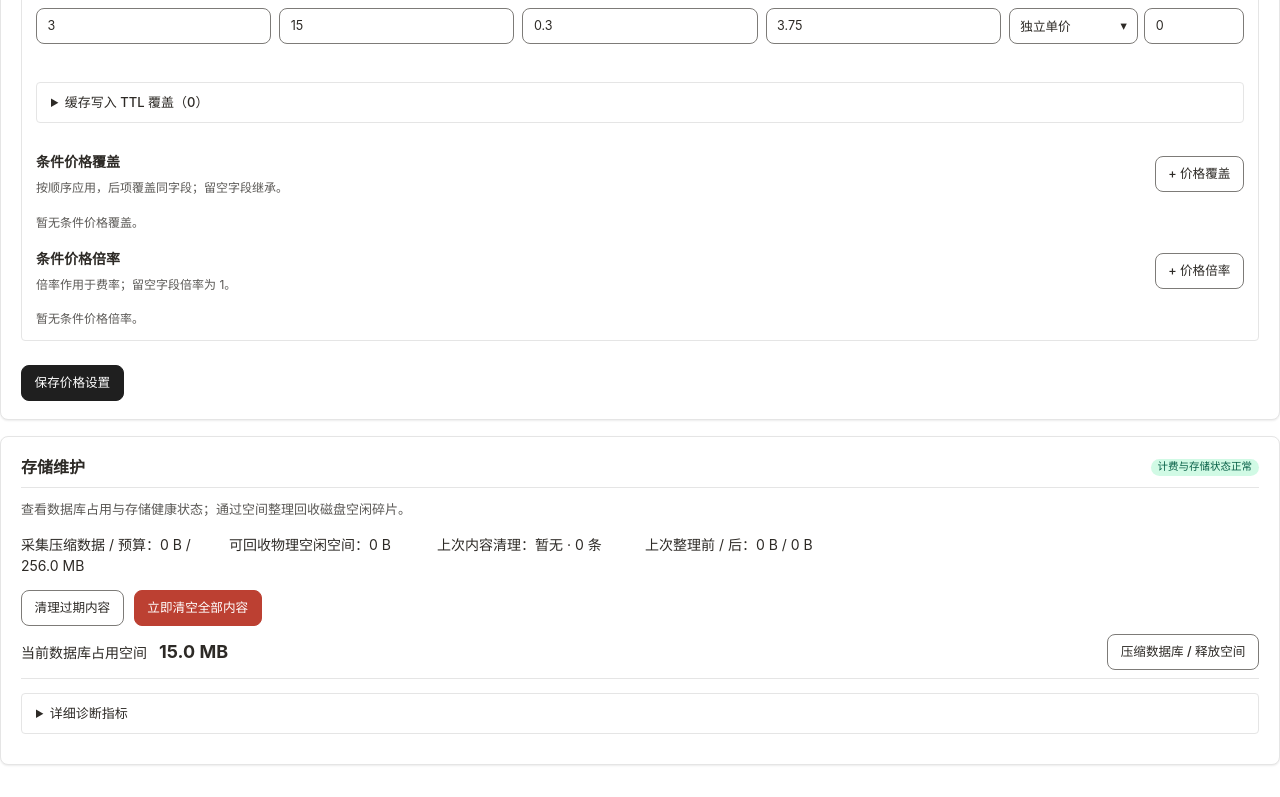
Test: SettingsPage › supports compact confirmation dialog and honors cancellation without firing compact API
(page scrolled)
Click the button with test id "health-compact": point(1183, 652) [1107, 634, 1259, 670]
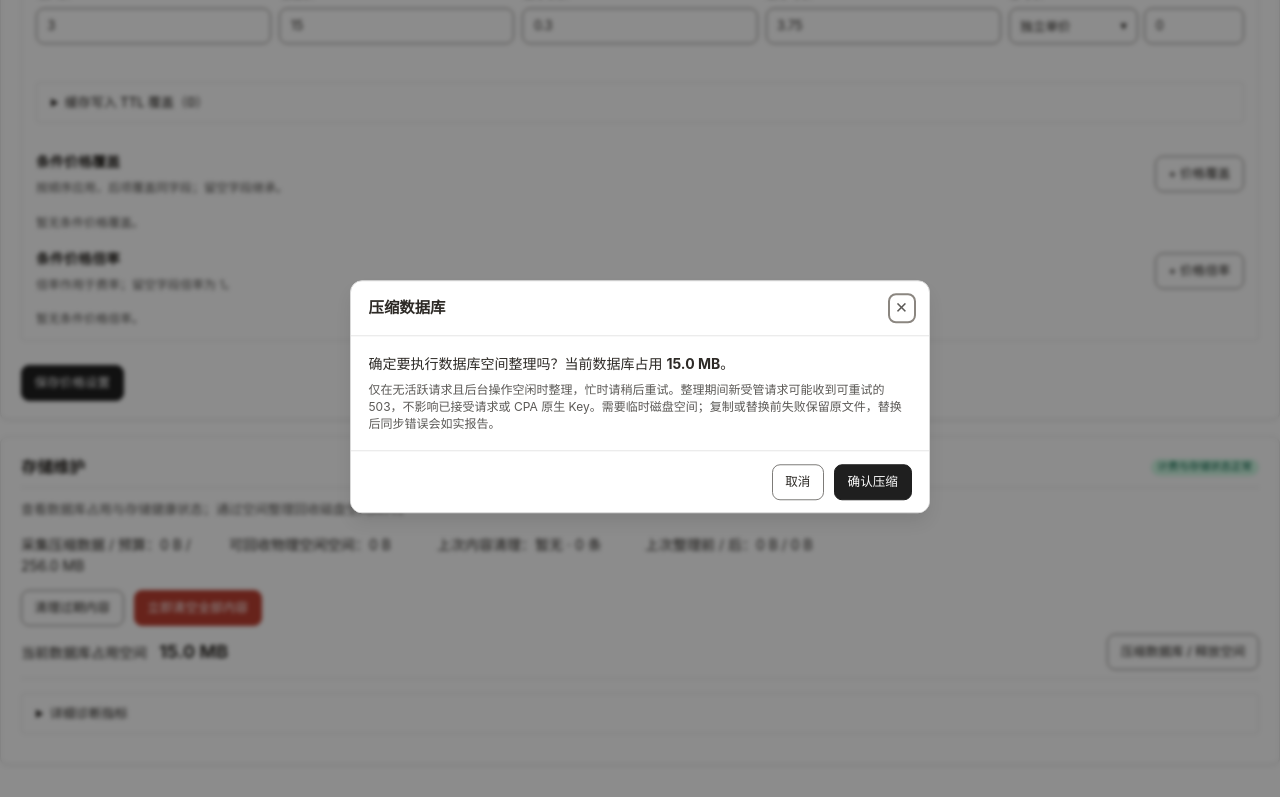
Expected: the text "确定要执行数据库空间整理吗？当前数据库占用 15.0 MB。" is shown, [368, 356, 734, 373]
Note: Click Cancel
Click the button with test id "compact-cancel": point(798, 482) [772, 464, 824, 500]
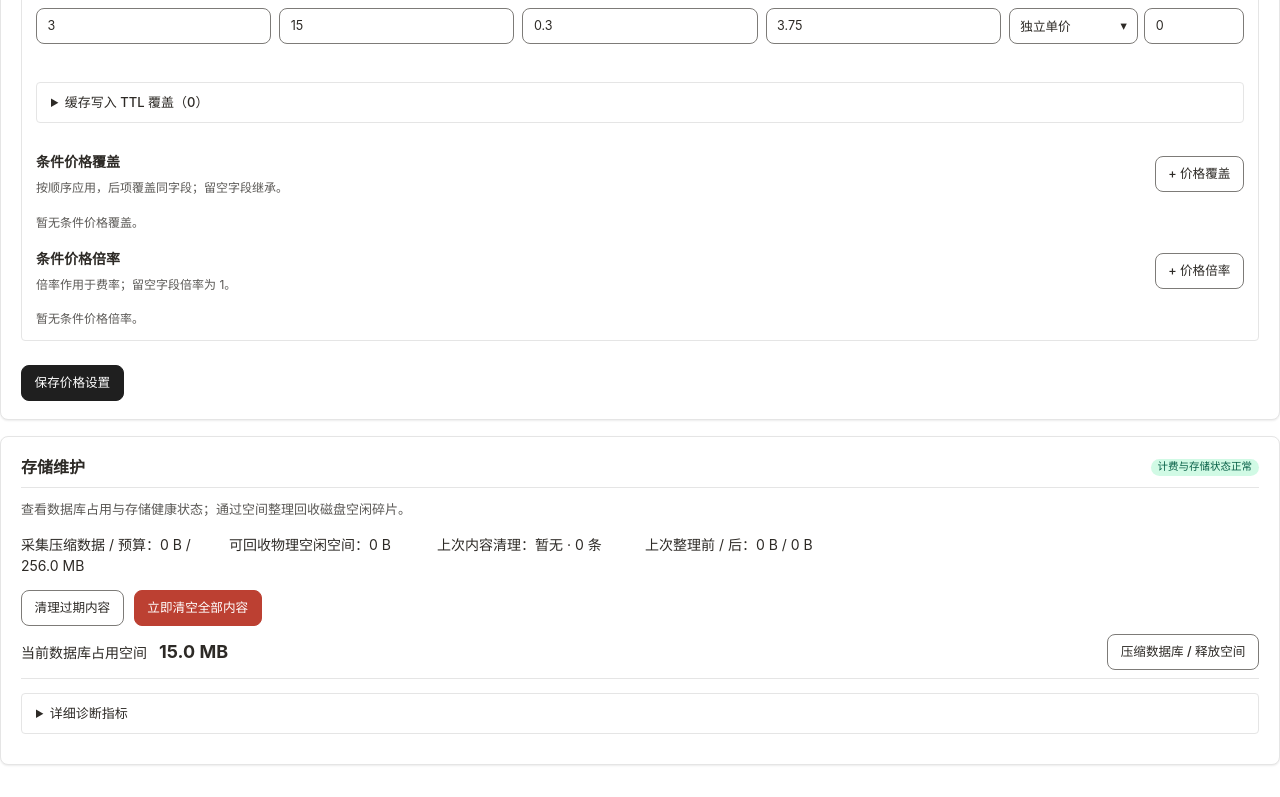
Expected: the text "确定要执行数据库空间整理吗？" is gone
Note: Click compact again and confirm
Click the button with test id "health-compact": point(1183, 652) [1107, 634, 1259, 670]
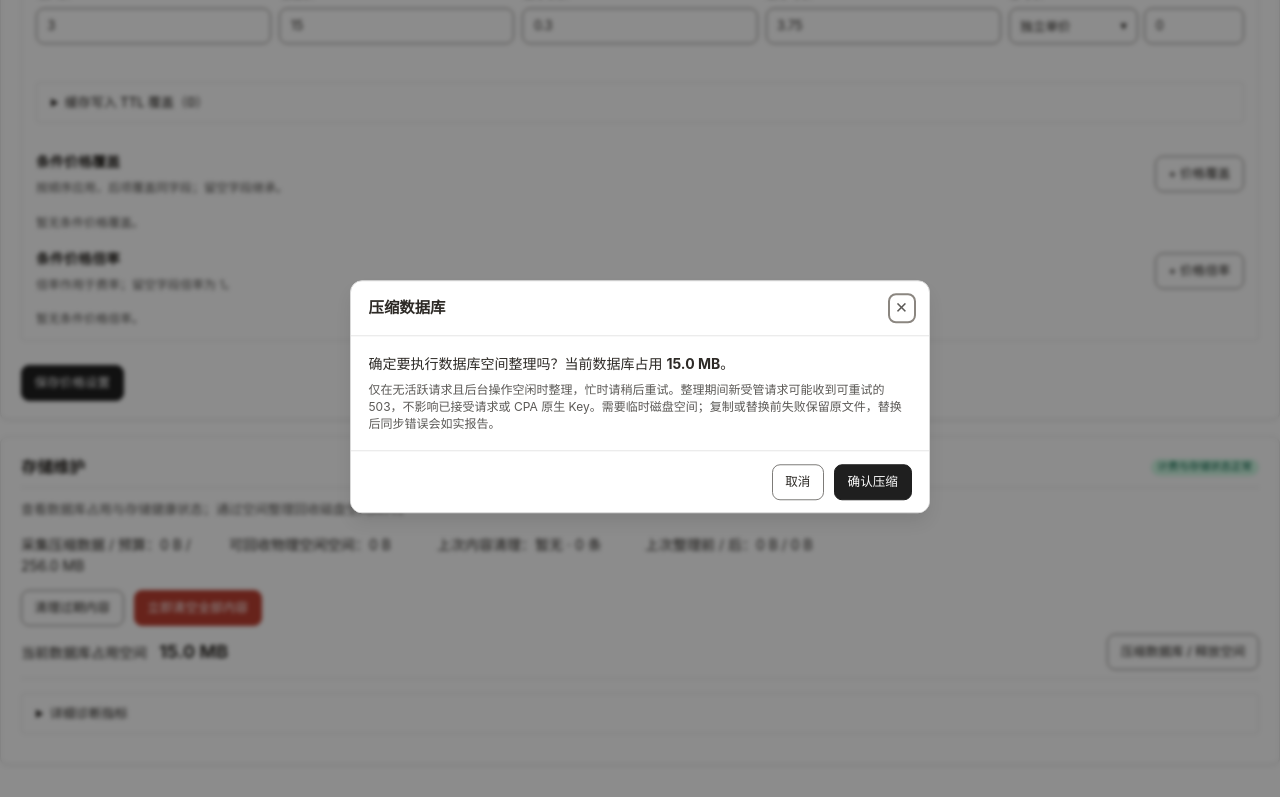
Click the button with test id "compact-confirm": point(873, 482) [834, 464, 912, 500]
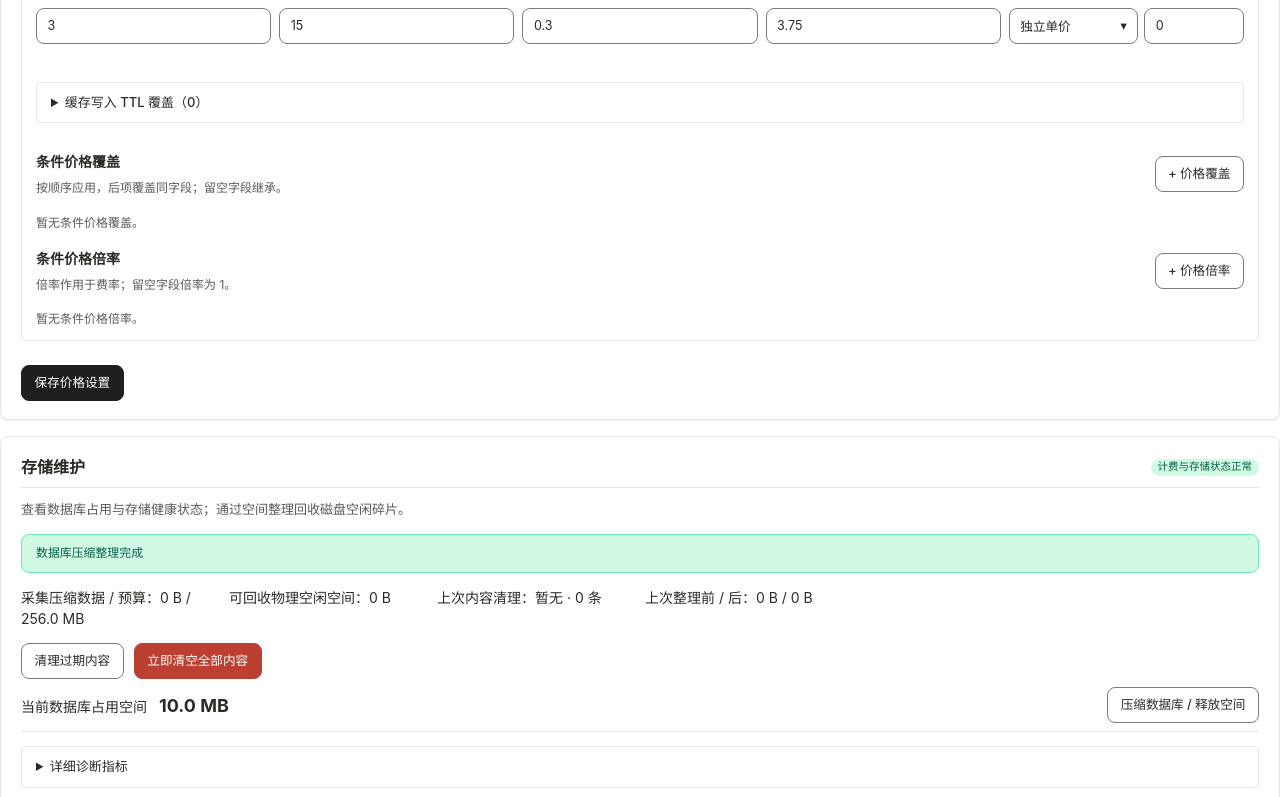
Expected: the text "数据库压缩整理完成" is shown, [21, 534, 1259, 573]
